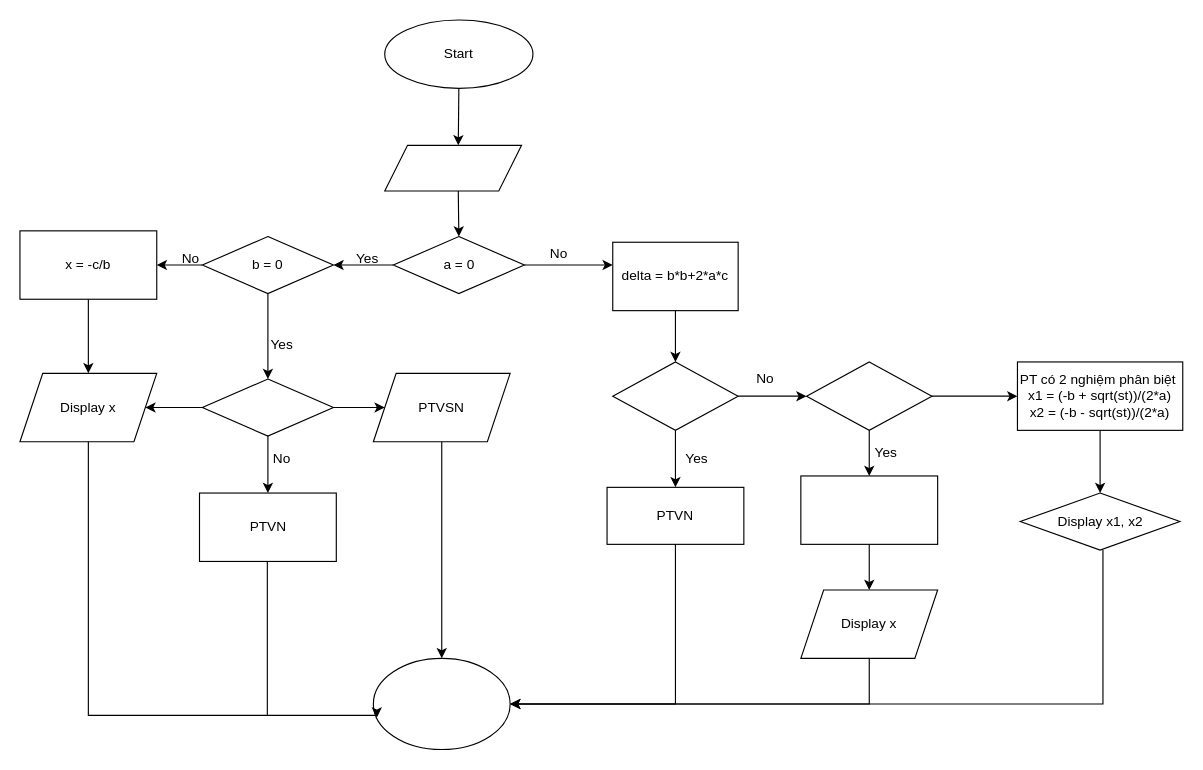
Image size: 1203x770. Some labels were removed from this diagram. The shapes that lost their labels are listed below. From the top down, each one's centre as x and y in pixels, then its label:
At (453,167): "Input a, b, c".
At (267,407): "c = 0".
At (675,395): "delta < 0".
At (868,395): "delta = 0".
At (869,509): "x = -b/2*a".
At (441,703): "Stop".
